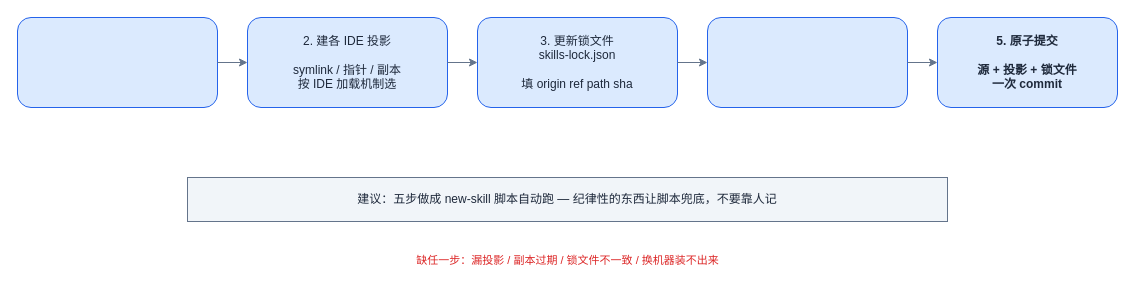
Some shapes in this 1135 by 300 pixel diagram are drawn without their labels. Here are the shapes that lost their labels. From the top down, the box of each, then its label:
(16, 16, 218, 108): 1. 建源文件 .agents/commands/x.md 唯一编辑位置
(706, 16, 908, 108): 4. 跑验证脚本 结构 + 哈希校验 抓漏建投影
